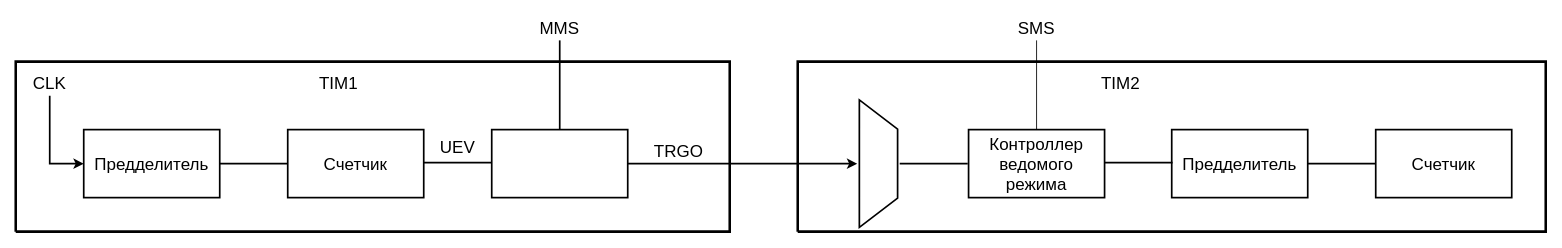
Image size: 1562x248. Some labels were removed from this diagram. The shapes that lost their labels are listed below. From the top down, each one's centre as x and y in pixels, then its label:
At [559,163]: "Контроллер ведущего режима".
At [878,163]: "ITR0".
